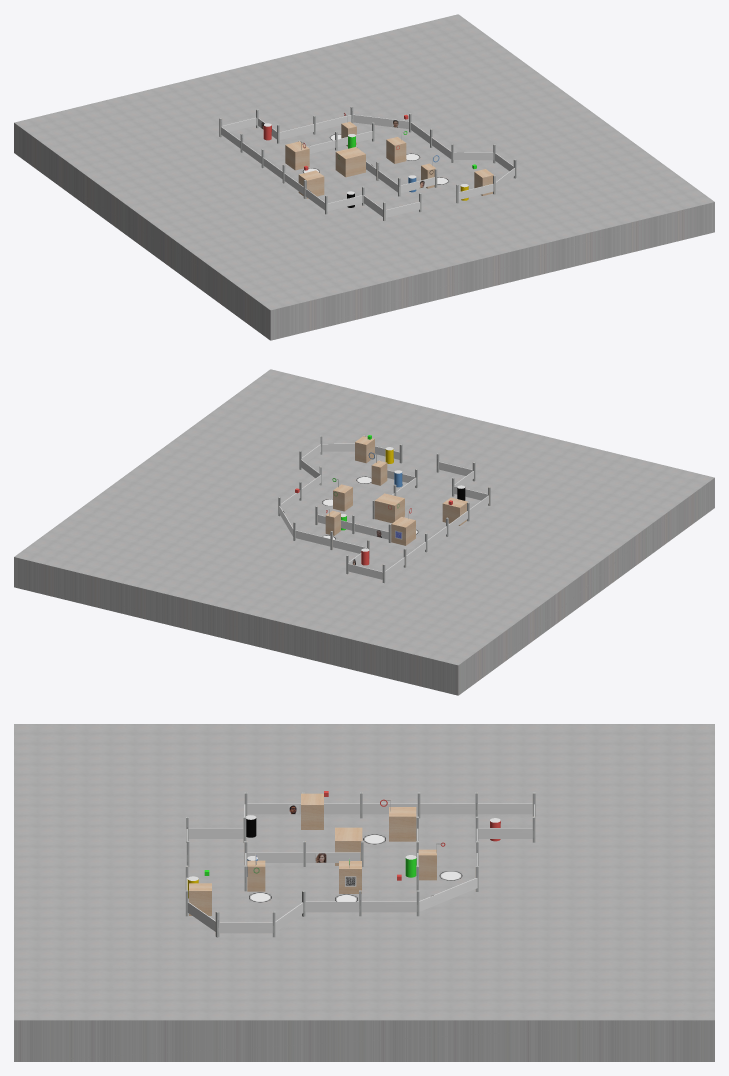
The model's file is map.dae.
3 renders of one model, top to bottom at view 1: azimuth 30°, elevation 25°; view 2: azimuth 150°, elevation 25°; view 3: azimuth 270°, elevation 25°, orthographic. The views are drawn at different scales.
Parts seen in each view (by area): view 1: main; view 2: main; view 3: main.
Part boxes in pixels (left/top/right/bottom): main: left=14, top=14, right=714, bottom=340; main: left=14, top=369, right=714, bottom=695; main: left=14, top=724, right=714, bottom=1061.
Bounding box in the file's own units: 15.34 × 15.34 × 1.92.
